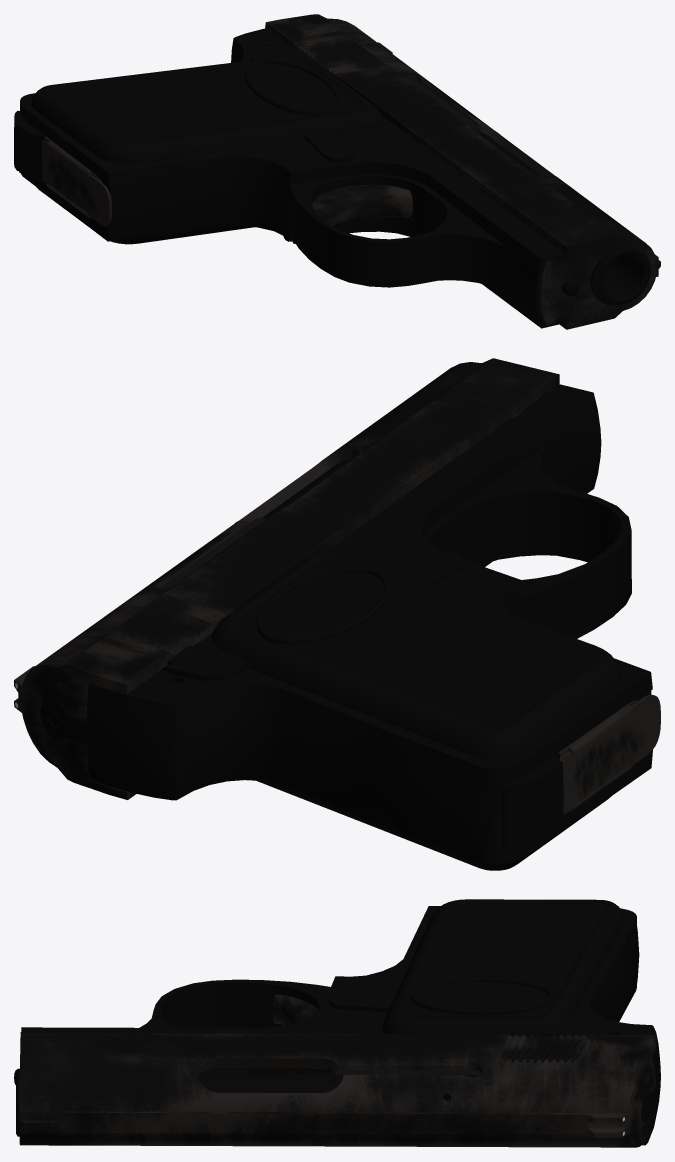
File: fn_browning_baby_gameready_old_model.glb
3 views of the same model, one above another, from view 1: azimuth 30°, elevation 25°; view 2: azimuth 150°, elevation 25°; view 3: azimuth 270°, elevation 25° (orthographic). The views are drawn at different scales.
Parts seen in each view (by area): view 1: Cylinder002, Cylinder001_Material #725_0, Plane003_Material #725_0, Plane025_Material #725_0; view 2: Cylinder002, Cylinder001_Material #725_0, Plane003_Material #725_0; view 3: Cylinder001_Material #725_0, Cylinder002, Plane025_Material #725_0.
Boxes of the visible parts, x1,y1,x2,y2 form: Cylinder002: (14,28,650,328); Cylinder001_Material #725_0: (265,14,660,329); Plane003_Material #725_0: (42,136,111,225); Plane025_Material #725_0: (312,184,412,226); Cylinder002: (40,384,652,870); Cylinder001_Material #725_0: (14,358,559,799); Plane003_Material #725_0: (558,694,660,814); Cylinder001_Material #725_0: (19,1032,656,1147); Cylinder002: (14,899,660,1136); Plane025_Material #725_0: (272,994,317,1025).
Size of the model in its own units: 0.0867 by 0.0234 by 0.1257.
1 material, 1 textured.
